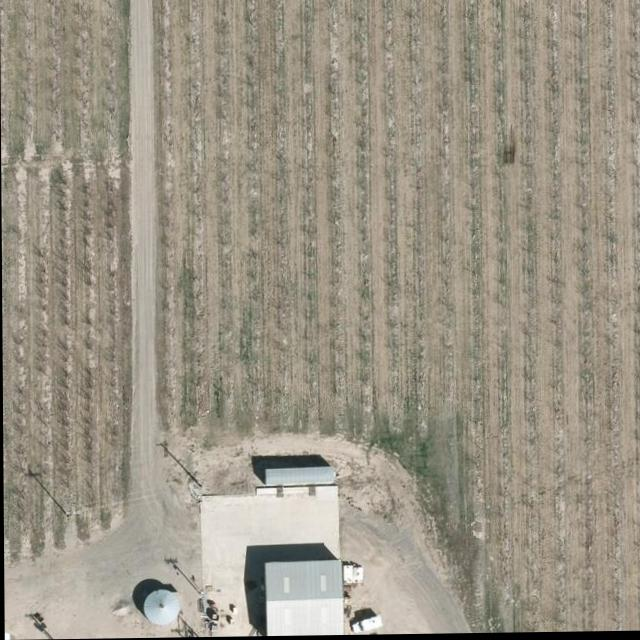vehicle: (350, 617, 384, 635)
